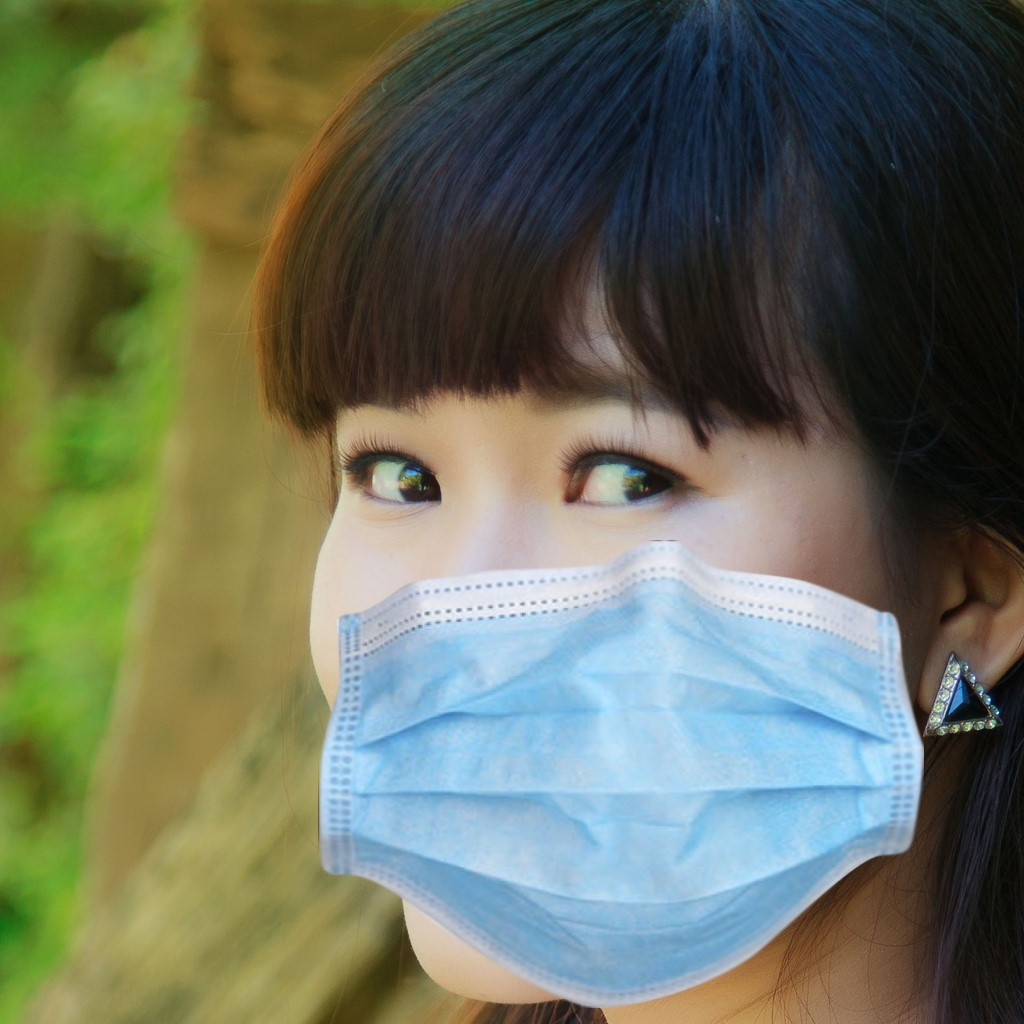con_mascara: (295, 259, 917, 1007)
